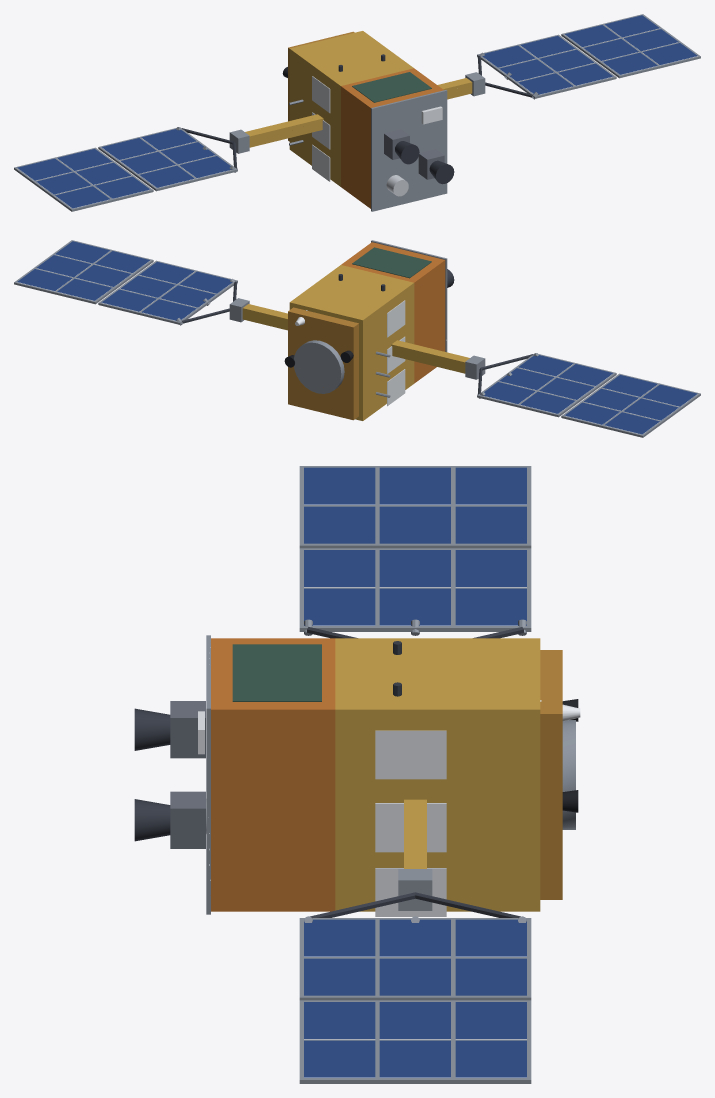
File: gcom-c.glb
3 views of the same model, one above another, from view 1: azimuth 30°, elevation 25°; view 2: azimuth 150°, elevation 25°; view 3: azimuth 270°, elevation 25° (orthographic). The views are drawn at different scales.
Visible parts, largest first — view 1: solar-panel, body, foil; view 2: foil, solar-panel, body; view 3: foil, solar-panel, body.
Boxes of the visible parts, x1,y1,x2,y2 form: solar-panel: (17,15,697,208); body: (14,14,700,211); foil: (245,31,472,208); foil: (242,242,469,420); solar-panel: (17,241,697,434); body: (14,240,700,437); foil: (210,638,562,911); solar-panel: (198,467,526,1077); body: (134,466,580,1083).
Bounding box in the file's own units: 16.3 × 2.76 × 5.
